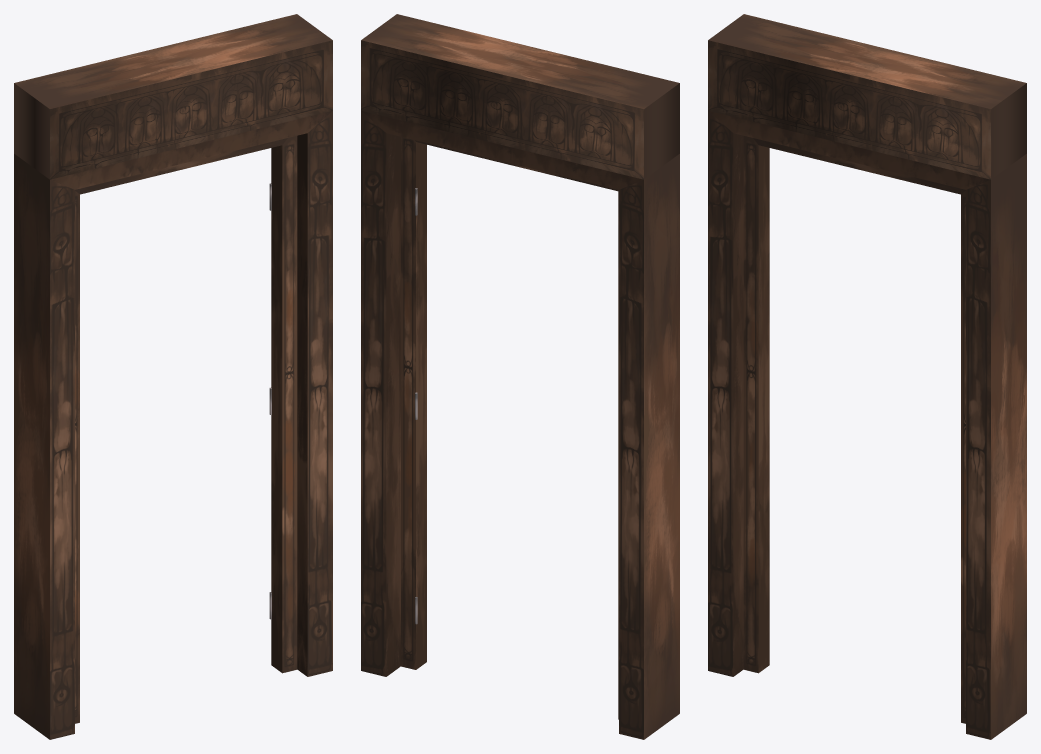
File: Door_Frame_textured.fbx
3 views of the same model, side by side, from view 1: azimuth 30°, elevation 25°; view 2: azimuth 150°, elevation 25°; view 3: azimuth 330°, elevation 25° (orthographic).
Parts seen in each view (by area): view 1: Object001; view 2: Object001; view 3: Object001.
Part boxes in pixels (x1,y1,x2,y2): Object001: [14, 14, 332, 739]; Object001: [361, 14, 679, 739]; Object001: [708, 14, 1026, 739].
Bounding box in the file's own units: 112 × 239 × 24.61.
